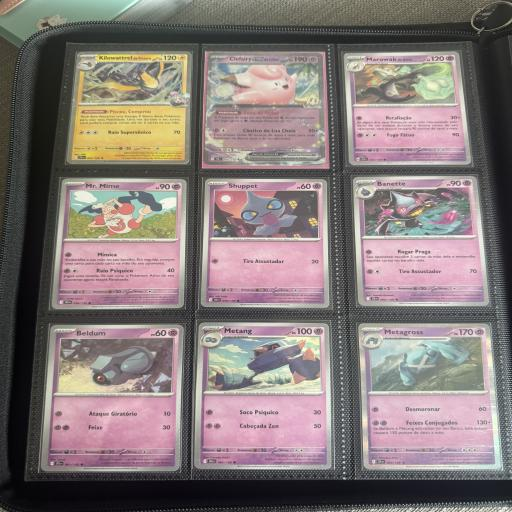card: (358, 318, 503, 474), (40, 323, 184, 471), (193, 321, 333, 470), (50, 177, 187, 312), (352, 176, 491, 308), (199, 178, 331, 308), (342, 50, 472, 168), (66, 51, 192, 164), (203, 52, 327, 166)
